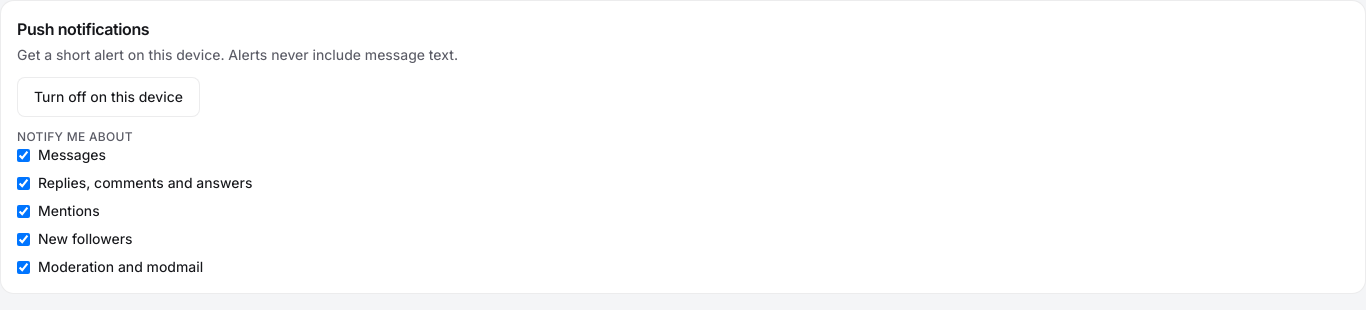
it: saves a changed type and can turn push off
The width and height of the screenshot is (1366, 310).
Click the checkbox labelled "New followers".
click(24, 239)  # box [17,232,30,246]
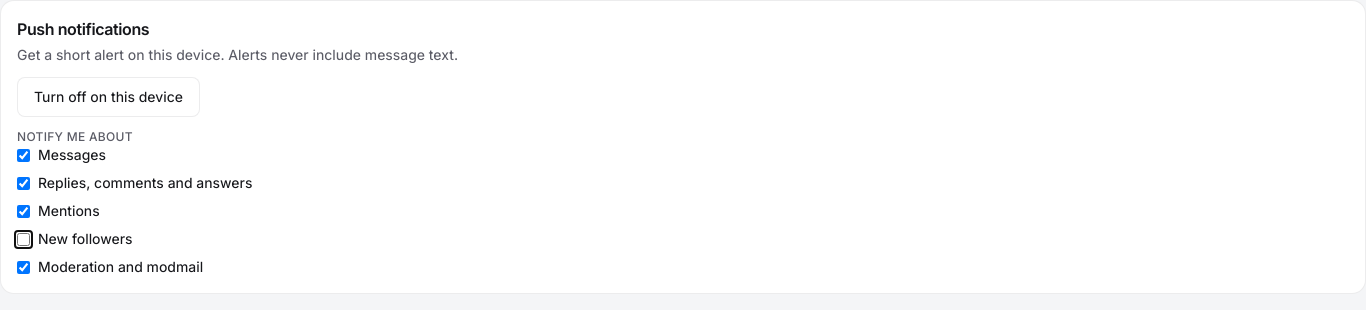
expect the checkbox labelled "New followers" is not checked: met, box [17,232,30,246]
Click the button "Turn off on this device".
click(108, 97)  # box [17,77,200,117]
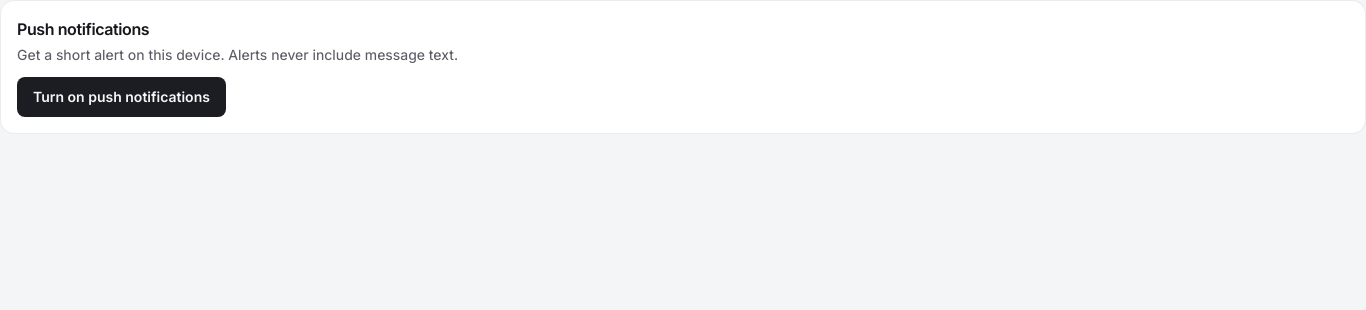
expect the button "Turn on push notifications" is shown: met, box [17,77,226,117]
